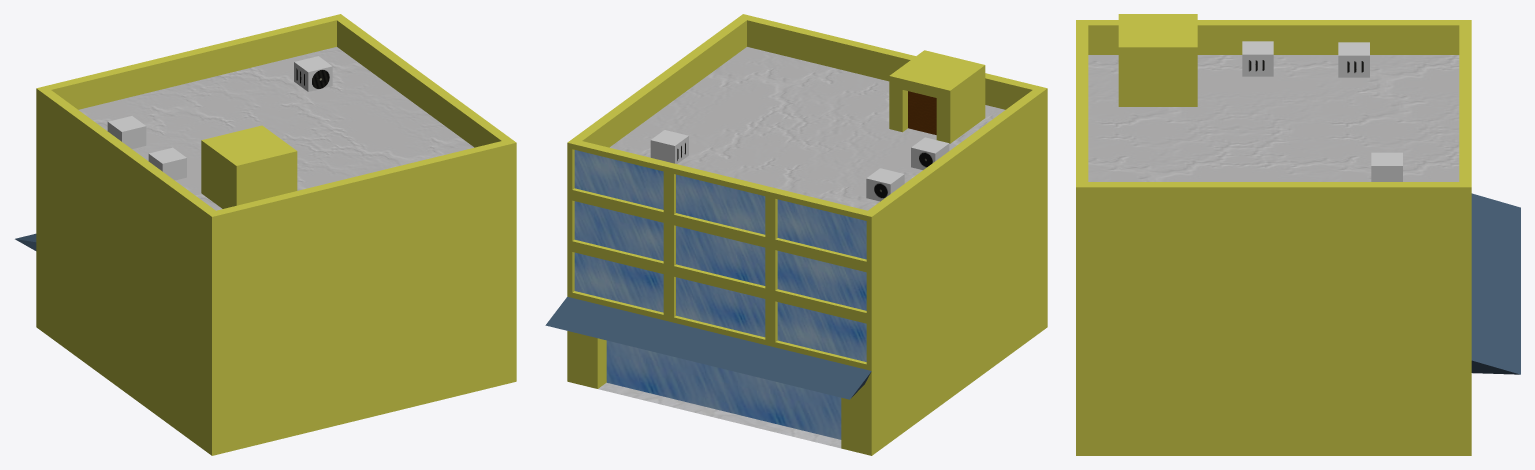
The model's file is Predio5.fbx.
3 views of the same model, side by side, from view 1: azimuth 30°, elevation 25°; view 2: azimuth 150°, elevation 25°; view 3: azimuth 270°, elevation 25° (orthographic). The views are drawn at different scales.
Parts seen in each view (by area): view 1: Predio3; view 2: Predio3; view 3: Predio3.
Boxes of the visible parts, x1,y1,x2,y2 form: Predio3: (15, 14, 516, 455); Predio3: (545, 14, 1047, 455); Predio3: (1076, 14, 1520, 455).
Size of the model in its own units: 1350 by 1200 by 1000.
Materials: 1 (1 with a texture image).
